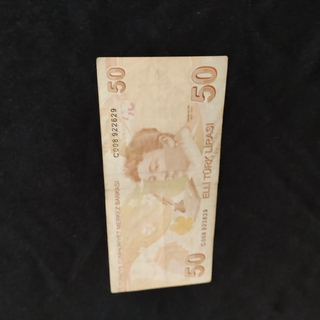50TLBack: (95, 55, 228, 293)
